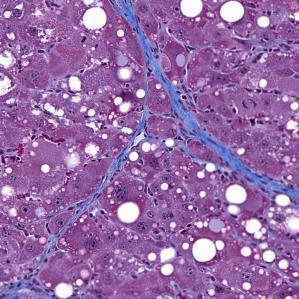fibrosis: (126, 13, 197, 146), (215, 139, 292, 202)
